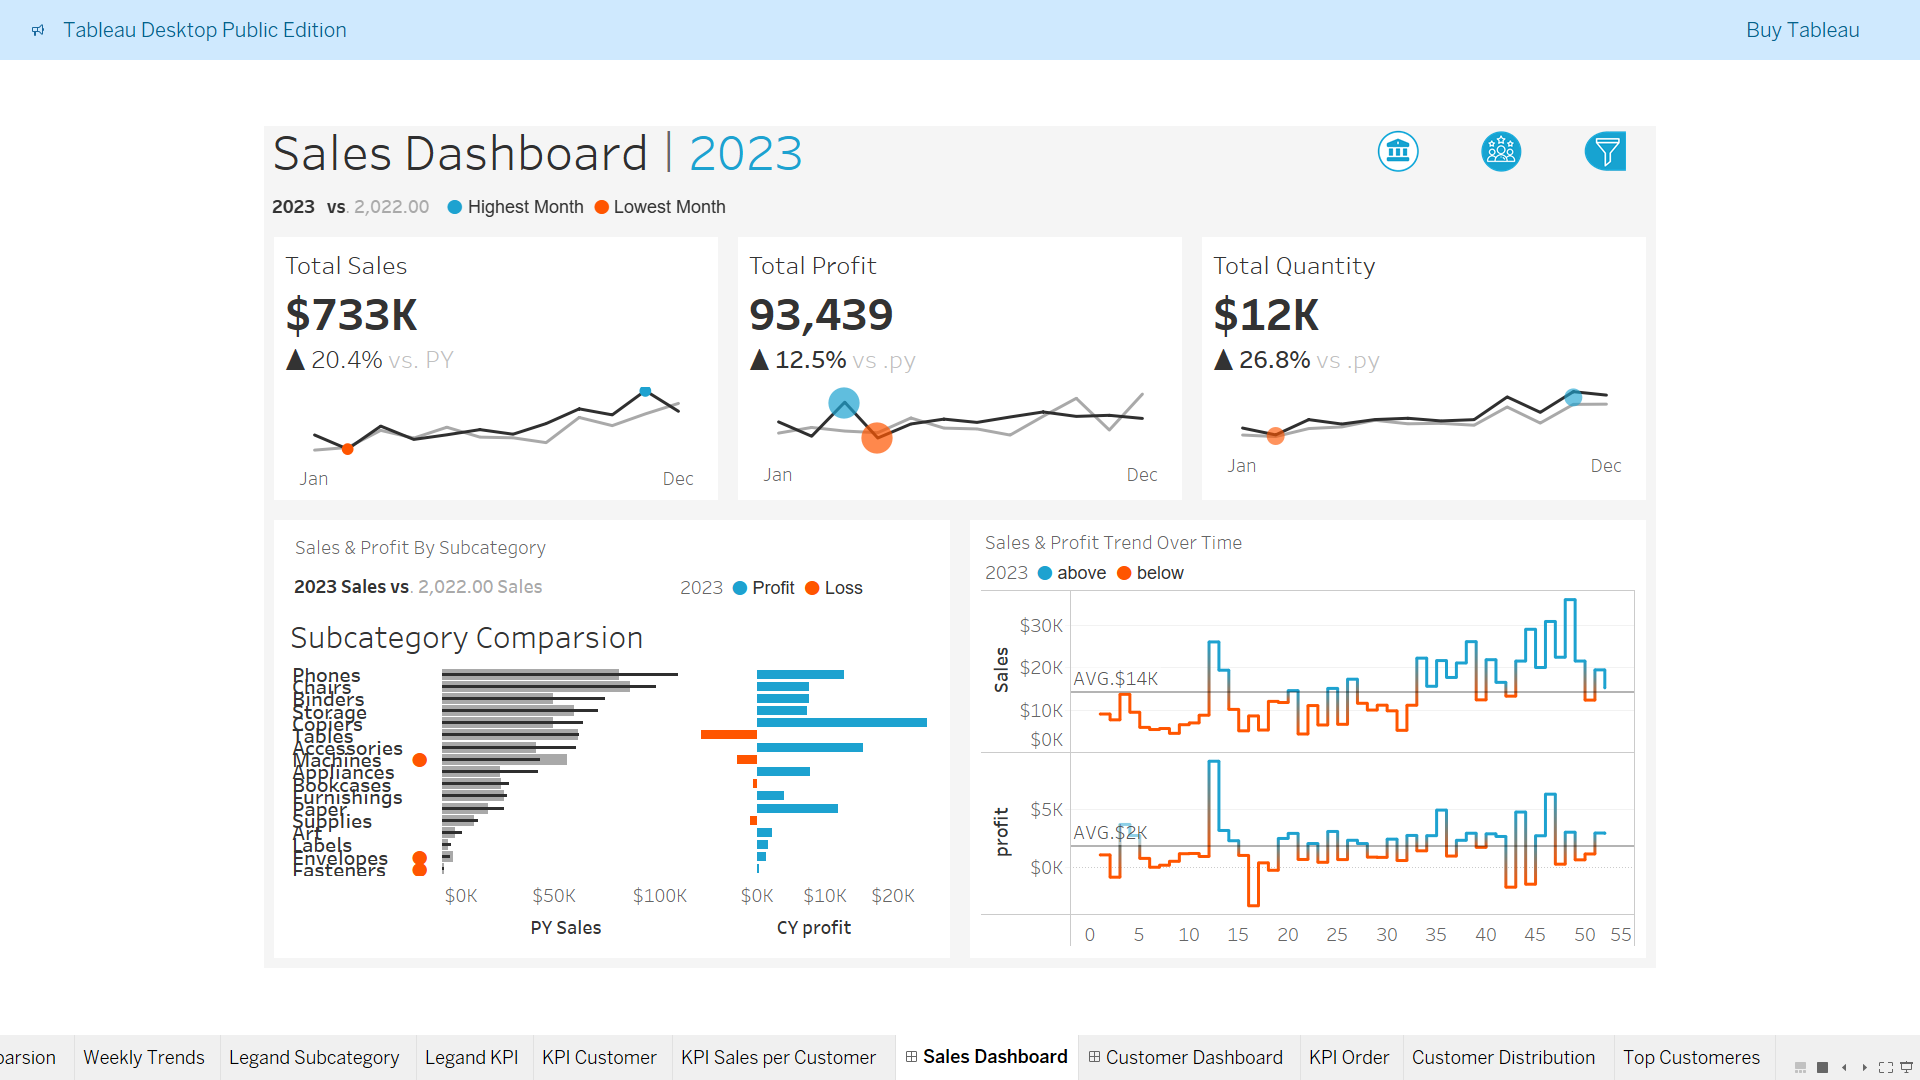

This screenshot's page, from the dashboard's own definition file:
{"tool":"tableau","page":{"name":"Sales Dashboard","canvas":[1400,850],"ordinal":1},"visuals":[{"type":"text","box":[4,4,1082,50]},{"type":"dashboard-object","box":[1086,4,104,50]},{"type":"dashboard-object","box":[1190,4,103,50]},{"type":"dashboard-object","box":[1293,4,103,50]},{"type":"worksheet","title":"Legand KPI","mark":"Automatic","box":[4,54,1392,51]},{"type":"text","box":[1185,82,205,36]},{"type":"worksheet","title":"KPI Sales","mark":"Automatic","rows":["Calculation_1280429690532470790"],"cols":["Order Date"],"box":[4,105,464,283]},{"type":"worksheet","title":"KPI profit","mark":"Automatic","rows":["Calculation_1280429690549026831"],"cols":["Order Date"],"box":[468,105,464,283]},{"type":"worksheet","title":"KPI Quantity","mark":"Automatic","rows":["Calculation_1280429690559594519"],"cols":["Order Date"],"box":[932,105,464,283]},{"type":"parameter","param":"[Parameters].[Parameter 1]","box":[1185,118,205,98]},{"type":"blank","box":[1185,216,205,1]},{"type":"text","box":[1185,217,205,36]},{"type":"filter","title":"KPI Sales","param":"[federated.0opmaap1ndr5ws1cathez08sfg5k].[none:Category:nk]","box":[1185,253,205,70]},{"type":"filter","title":"KPI Sales","param":"[federated.0opmaap1ndr5ws1cathez08sfg5k].[none:Sub-Category:nk]","box":[1185,323,205,70]},{"type":"text","box":[1185,393,205,33]},{"type":"text","box":[717,405,662,30]},{"type":"text","box":[22,406,660,38]},{"type":"filter","title":"KPI Sales","param":"[federated.0opmaap1ndr5ws1cathez08sfg5k].[none:Region:nk]","box":[1185,426,205,70]},{"type":"text","box":[717,435,662,29]},{"type":"worksheet","title":"Legand Subcategory","mark":"Automatic","box":[21,445,391,39]},{"type":"text","box":[412,445,271,39]},{"type":"worksheet","title":"Weekly Trends","mark":"Automatic","rows":["Calculation_1280429690528129024","Calculation_1280429690545188875"],"cols":["Order Date"],"box":[717,464.2,662,364.8]},{"type":"worksheet","title":"Subcategory Comparsion","mark":"Bar","rows":["Sub-Category","Calculation_1280429690700341274"],"cols":["CY Sales (copy)_1280429690529353731","Calculation_1280429690528129024","Calculation_1280429690545188875"],"box":[21,484,662,344.9]},{"type":"filter","title":"KPI Sales","param":"[federated.0opmaap1ndr5ws1cathez08sfg5k].[none:State:nk]","box":[1185,496,205,70]},{"type":"filter","title":"KPI Sales","param":"[federated.0opmaap1ndr5ws1cathez08sfg5k].[none:City:nk]","box":[1185,566,205,70]}]}

Visuals, with their boxes on the page's 1400x850 design canvas (x1, y1, x2, y2). These are canvas units, not pixel positions in the 1920x1080 screenshot, which may show the page scaled, cropped or inside an application window:
text: <region>4, 4, 1086, 54</region>
dashboard-object: <region>1086, 4, 1190, 54</region>
dashboard-object: <region>1190, 4, 1293, 54</region>
dashboard-object: <region>1293, 4, 1396, 54</region>
"Legand KPI" worksheet: <region>4, 54, 1396, 105</region>
text: <region>1185, 82, 1390, 118</region>
"KPI Sales" worksheet: <region>4, 105, 468, 388</region>
"KPI profit" worksheet: <region>468, 105, 932, 388</region>
"KPI Quantity" worksheet: <region>932, 105, 1396, 388</region>
parameter: <region>1185, 118, 1390, 216</region>
blank: <region>1185, 216, 1390, 217</region>
text: <region>1185, 217, 1390, 253</region>
"KPI Sales" filter: <region>1185, 253, 1390, 323</region>
"KPI Sales" filter: <region>1185, 323, 1390, 393</region>
text: <region>1185, 393, 1390, 426</region>
text: <region>717, 405, 1379, 435</region>
text: <region>22, 406, 682, 444</region>
"KPI Sales" filter: <region>1185, 426, 1390, 496</region>
text: <region>717, 435, 1379, 464</region>
"Legand Subcategory" worksheet: <region>21, 445, 412, 484</region>
text: <region>412, 445, 683, 484</region>
"Weekly Trends" worksheet: <region>717, 464, 1379, 829</region>
"Subcategory Comparsion" worksheet (Bar marks): <region>21, 484, 683, 829</region>
"KPI Sales" filter: <region>1185, 496, 1390, 566</region>
"KPI Sales" filter: <region>1185, 566, 1390, 636</region>
